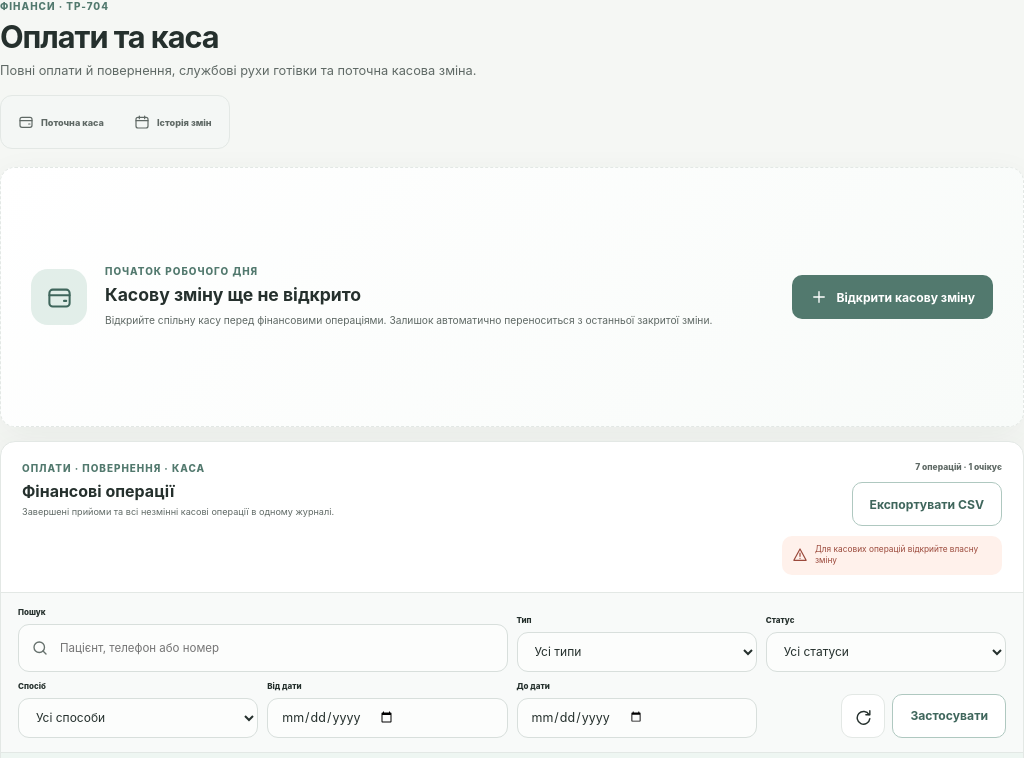
TP-701 current cash shift › refreshes the exact current projection after an already-open conflict
The image size is (1024, 758).
Click the button "Відкрити касову зміну" at x=893, y=297, box [792,275,993,319]
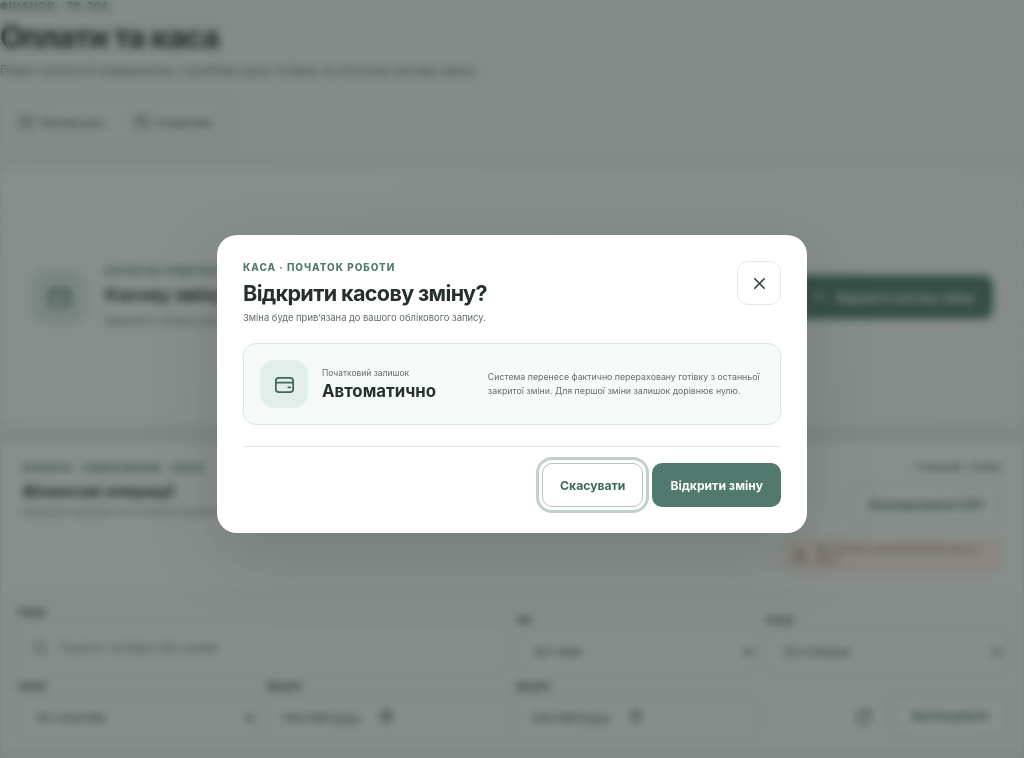
Click the button "Відкрити зміну" at x=717, y=485, box [652,463,781,507]
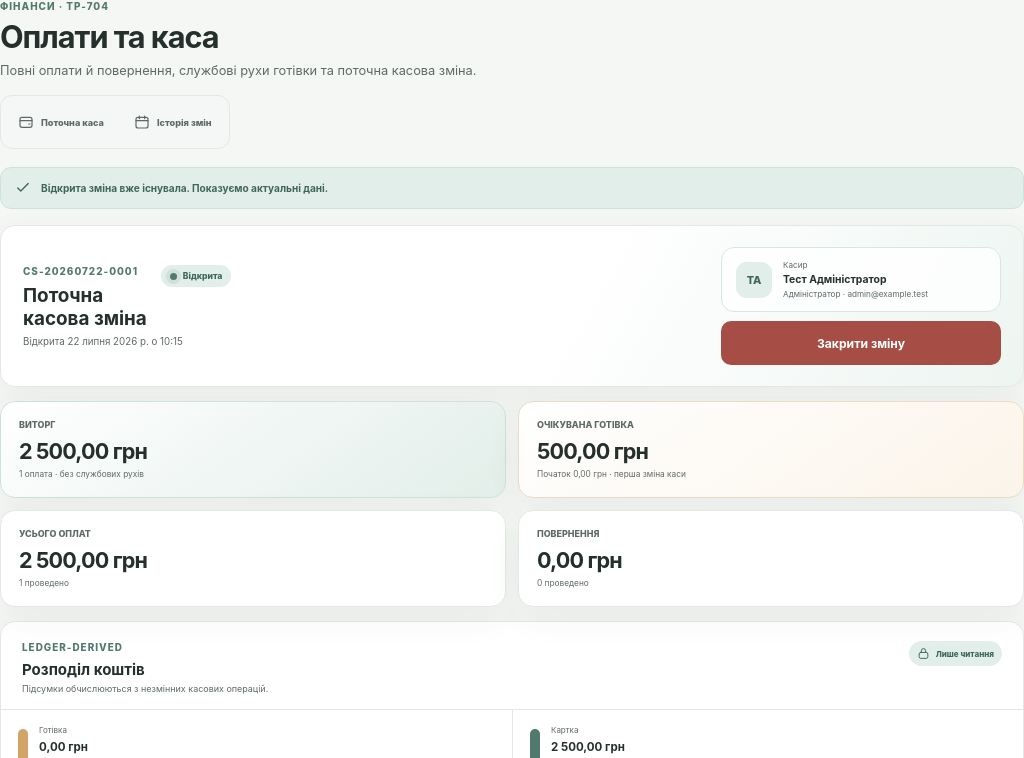
Expected: the message shows "Відкрита зміна вже існувала", [41,182,328,194]
Expected: the text "CS-20260722-0001" is shown, [23,265,138,277]
